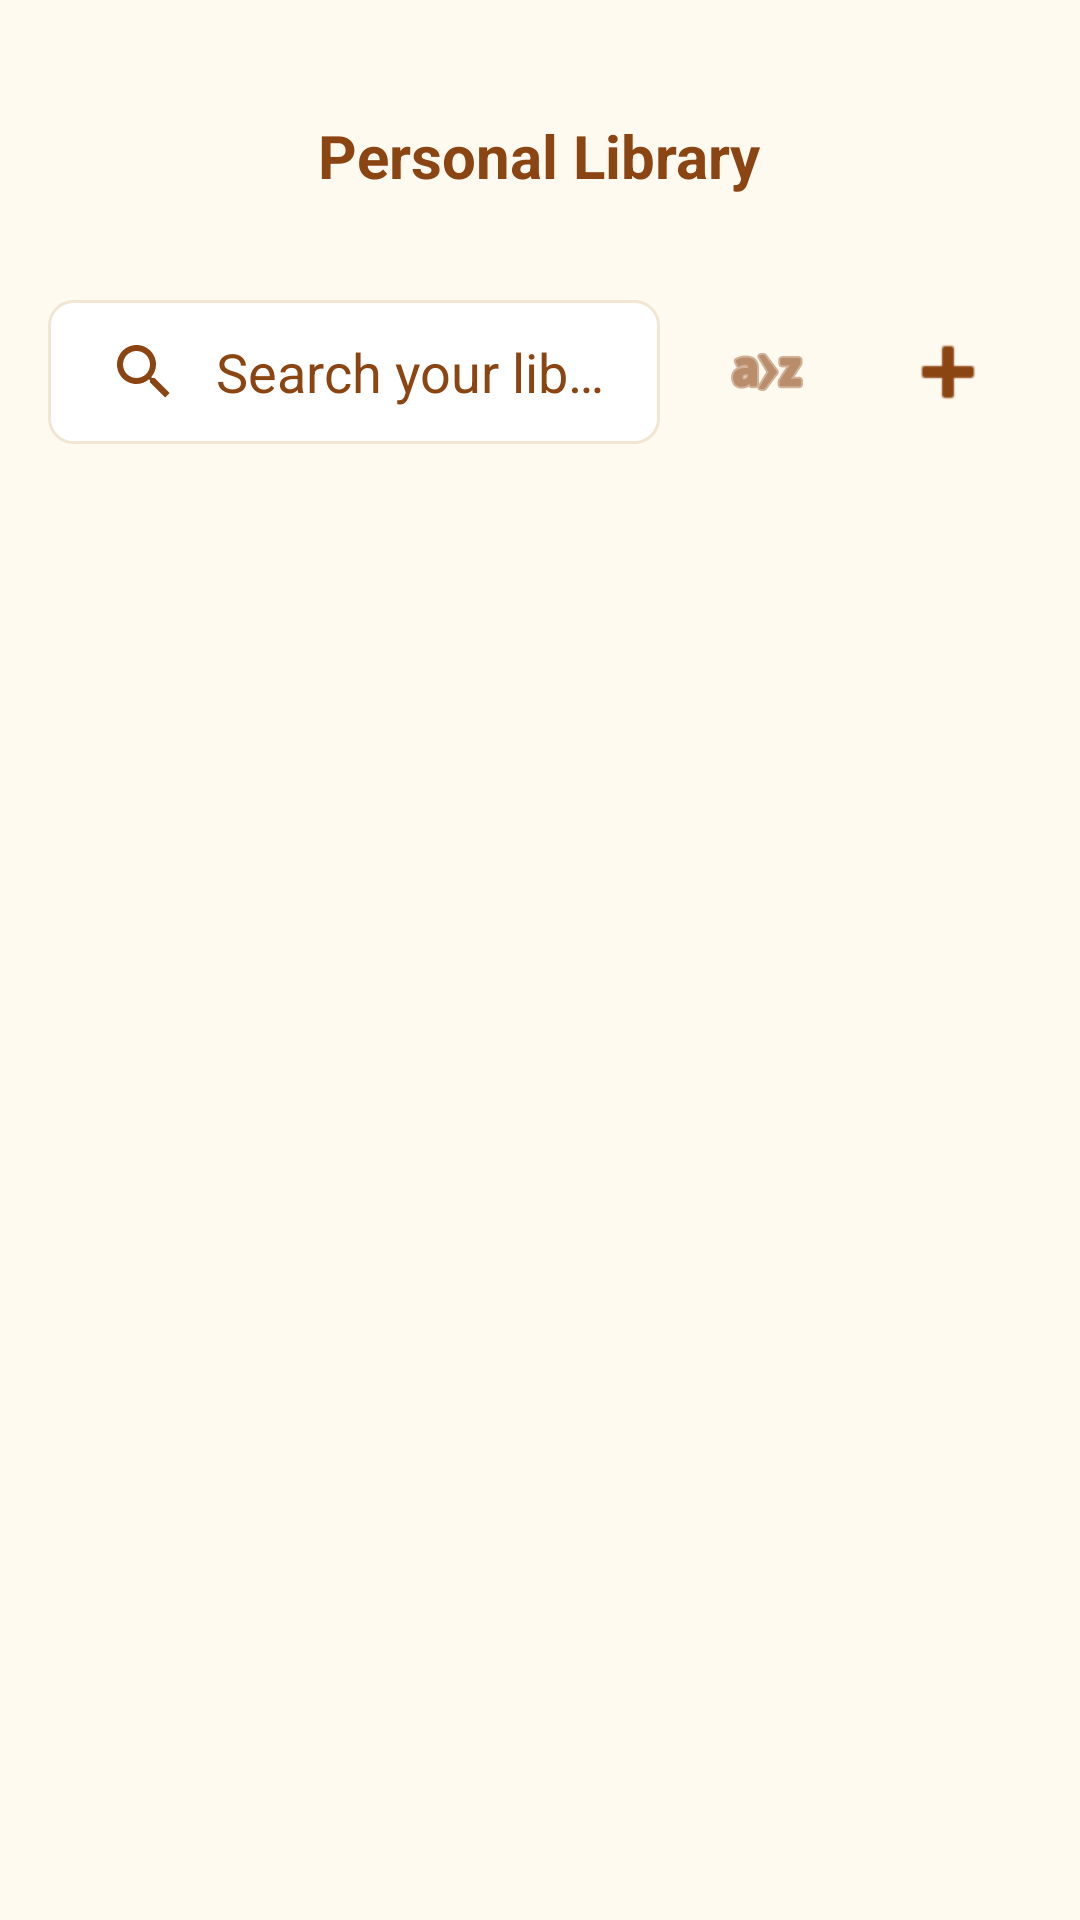

Icon bounding boxes for this 1080 x 1920 phone screenshot, format (x1, y1, x2, y2):
Add Book: (921, 345, 975, 399)
Sort By: (731, 353, 803, 391)
